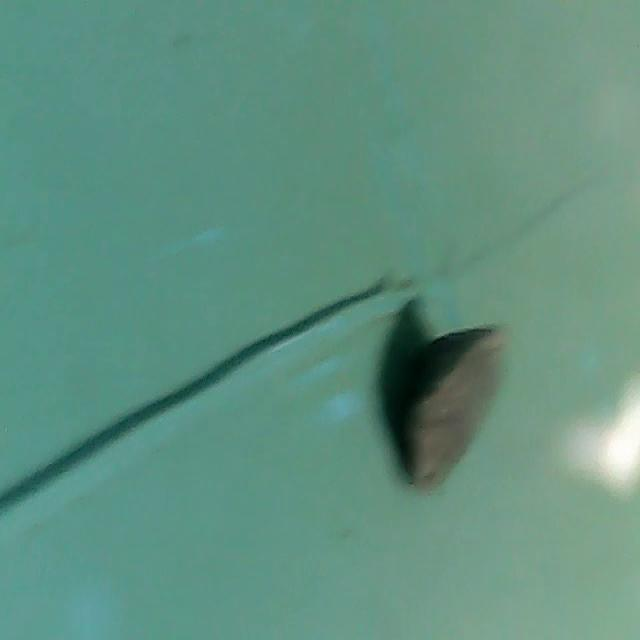rock: (388, 322, 509, 499)
